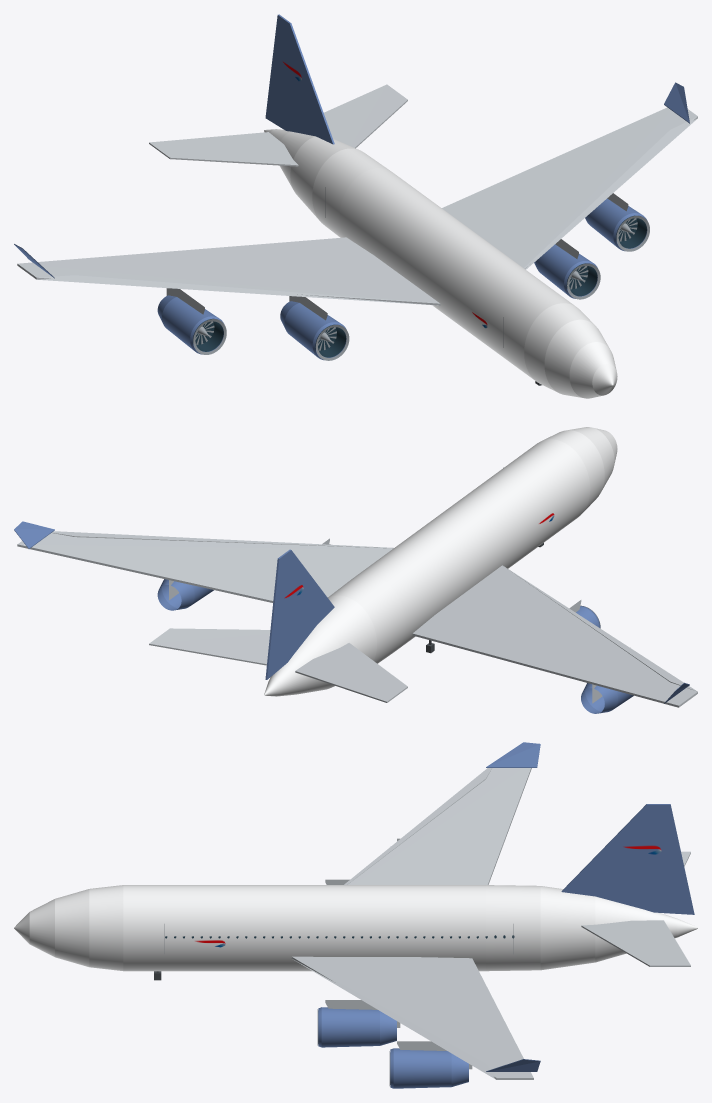
Rendered from a380-BAW-v3.gltf.
3 renders of one model, top to bottom at view 1: azimuth 30°, elevation 25°; view 2: azimuth 150°, elevation 25°; view 3: azimuth 270°, elevation 25°, orthographic.
Visible parts, largest first — view 1: object 1; view 2: object 1; view 3: object 1.
Part boxes in pixels (bbox=[...]): object 1: bbox=[14, 14, 697, 398]; object 1: bbox=[14, 427, 697, 713]; object 1: bbox=[14, 742, 697, 1088].
Size of the model in its own units: 80 by 21.35 by 73.
8 materials, 1 textured.
